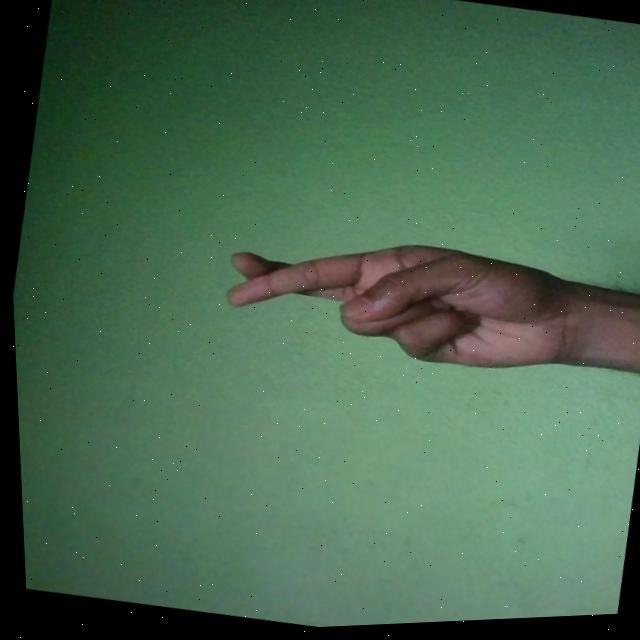Good Luck: (212, 210, 585, 396)
